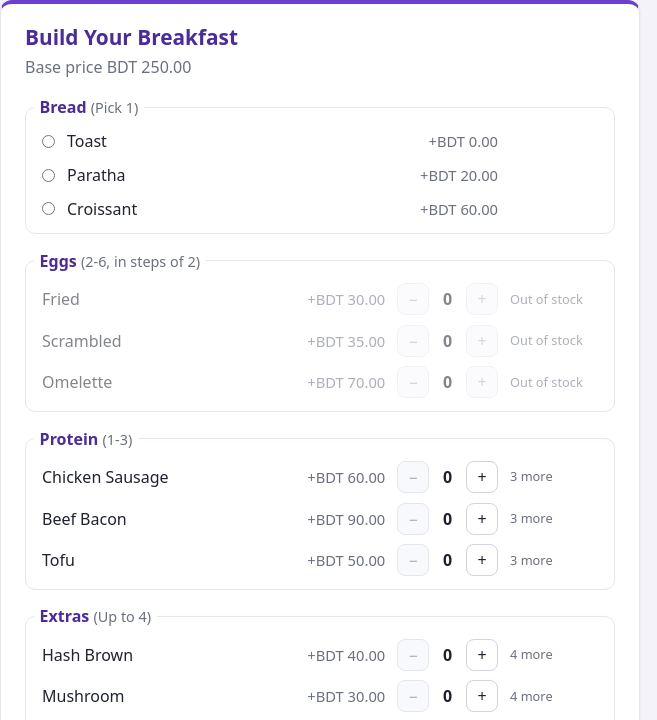
Scenario: Builder › shows how many more units fit and disables options at 0
Expected: the button named "Add one Fried" is disabled, [466,283,498,315]
Expected: the text "Out of stock" is shown 3 times, [510,290,583,308]; [510,331,583,349]; [510,373,583,391]
What coordinates should you click on to do the following:
click the button "+" in the row of "Chicken Sausage"
I would click on:
 (482, 477)
Its box is [466,461,498,493].
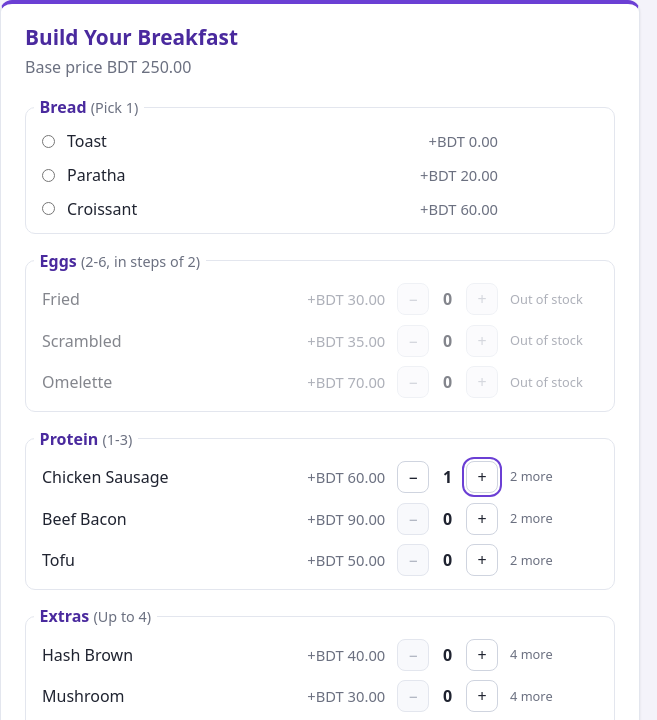
Expected: the text "2 more" in the row of "90.00" is shown, [510,509,553,527]
